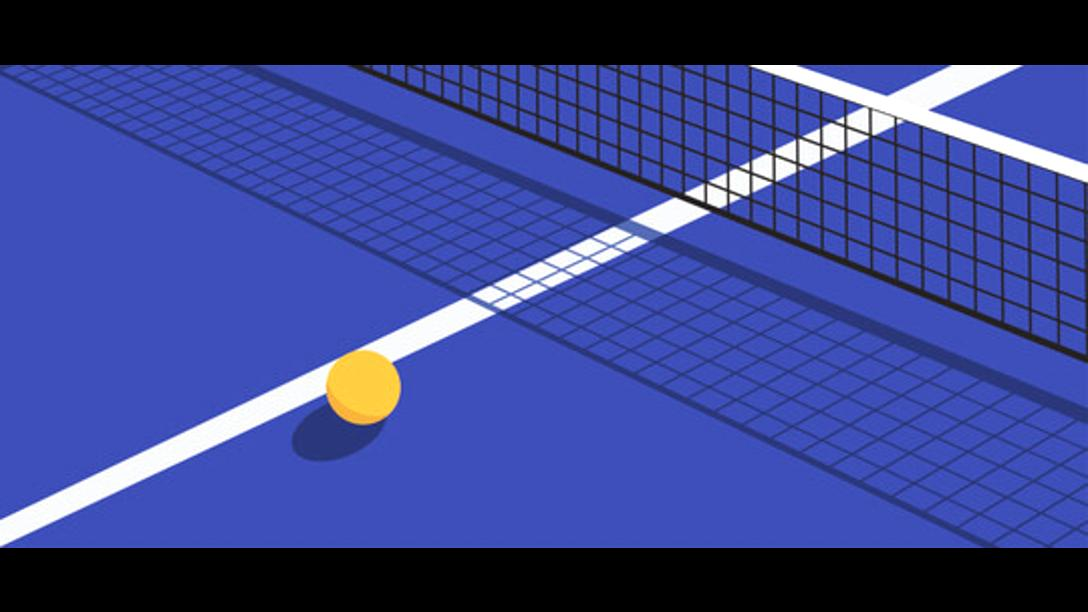Table-Tennis-Ball: (327, 350, 401, 424)
